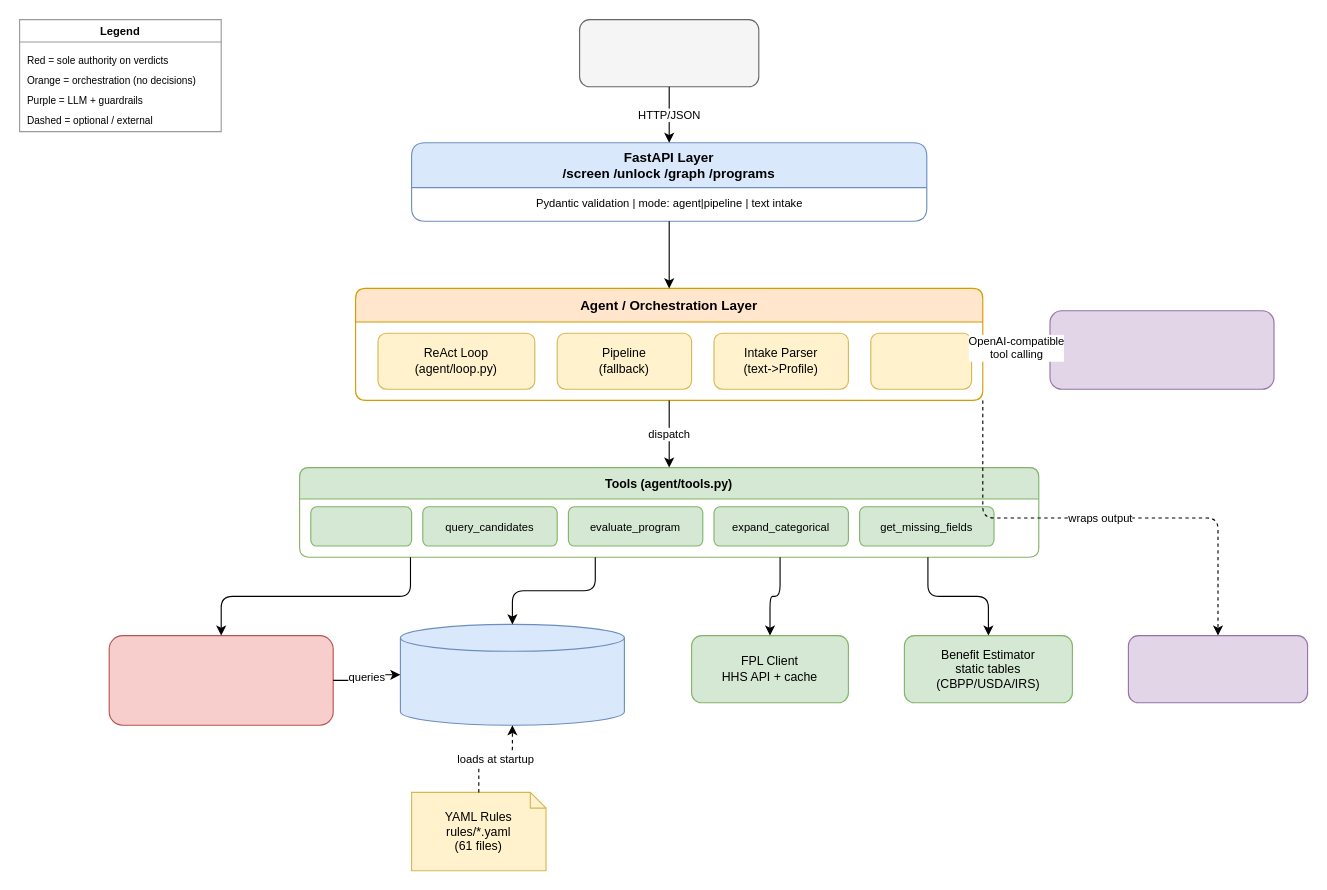
The diagram is 1327 pixels wide and 890 high, and some of its shapes have lost their labels. The shapes that lost their labels are listed below. From the top down, each one's centre as x and y in pixels, then its label:
the point at 668,52: Frontend (React)
the point at 921,360: System Prompt (prompts.py)
the point at 1161,349: LLM Providers Groq | Gemini | OpenRouter | Cerebras | SambaNova
the point at 361,526: get_fpl
the point at 220,679: Eligibility Engine (DETERMINISTIC) evaluate.py + conditions.py
the point at 511,674: Knowledge Graph NetworkX 61 programs | AZ, CA, TX
the point at 1217,668: Guardrails hedged language provenance + disclaimers
